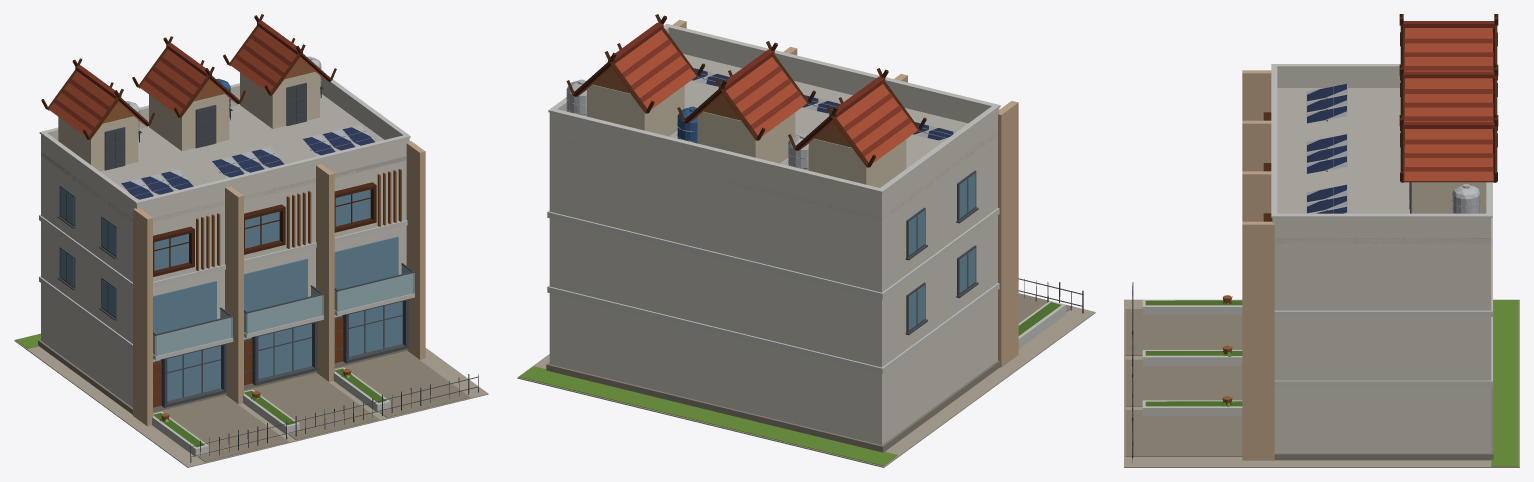
Rendered from home_3.glb.
3 views of the same model, side by side, from view 1: azimuth 30°, elevation 25°; view 2: azimuth 150°, elevation 25°; view 3: azimuth 270°, elevation 25° (orthographic). The views are drawn at different scales.
Visible parts, largest first — view 1: body; view 2: body; view 3: body.
Boxes of the visible parts, bbox=[...] form: body: bbox=[14, 14, 488, 467]; body: bbox=[517, 14, 1095, 467]; body: bbox=[1124, 14, 1519, 467].
Size of the model in its own units: 15.9 by 13.96 by 15.9.
